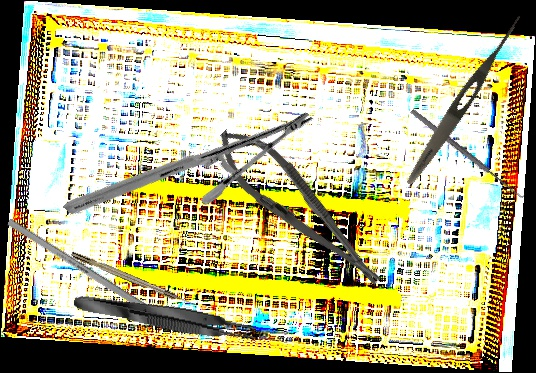Dressing Forceps: (401, 8, 528, 190)
Hook Surgical: (408, 103, 529, 202), (70, 250, 199, 310)
Needle Holder: (62, 31, 315, 295), (203, 113, 396, 303)
Pusher: (6, 218, 198, 342)
Tissue Forceps: (72, 288, 258, 346)
